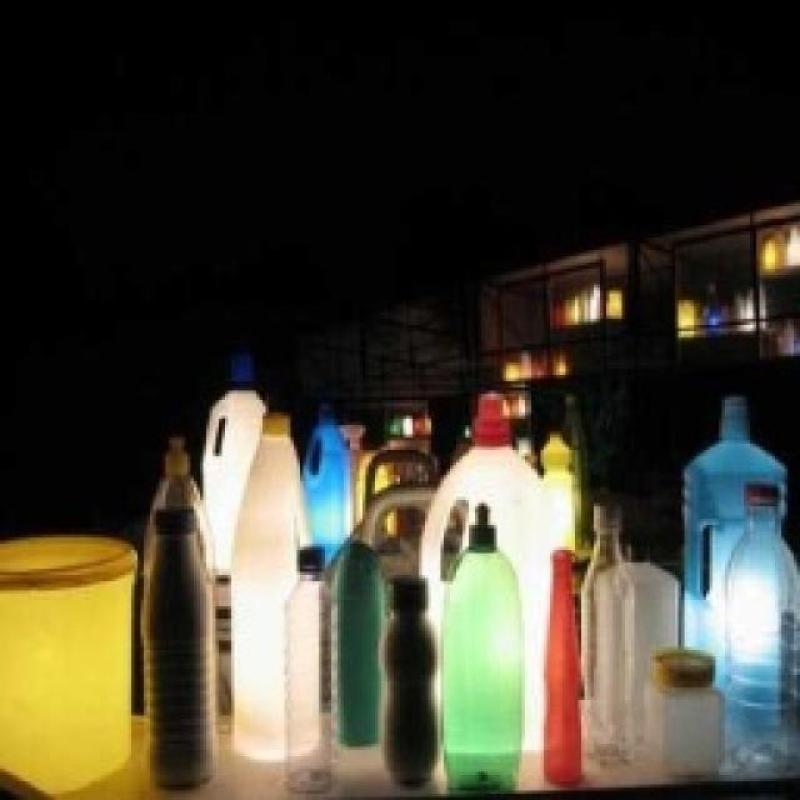botella: (719, 480, 800, 770), (582, 501, 636, 768)
